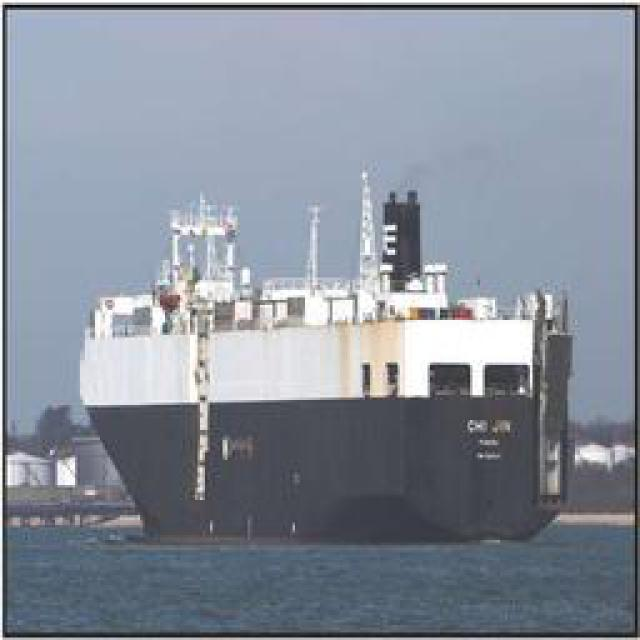Ship: (71, 169, 571, 544)
